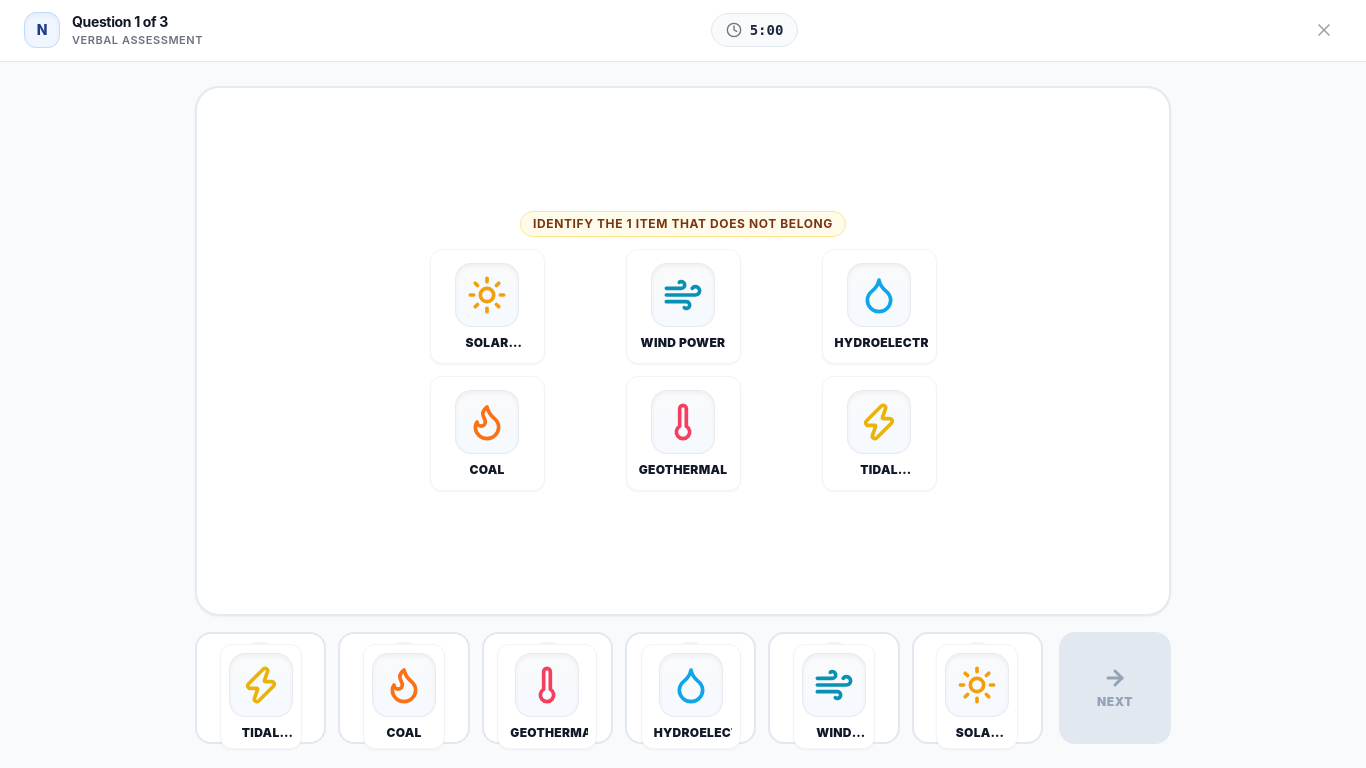
Scenario: Stage 3: View, Store & UI/UX Interaction Suite › ExamSimulatorView (Authentic MHS NGAT Interface) › faithfully handles 6-option Verbal questions (A through F) with authentic click-to-select and advance
The image size is (1366, 768).
expect the button with test id "exam-option-0" is shown: met, box [195,632,326,744]
expect the button with test id "exam-option-1" is shown: met, box [338,632,470,744]
What coordinates should you click on to do the following:
click the button with test id "exam-option-3"
I would click on:
 (691, 688)
Its box is [625,632,756,744].
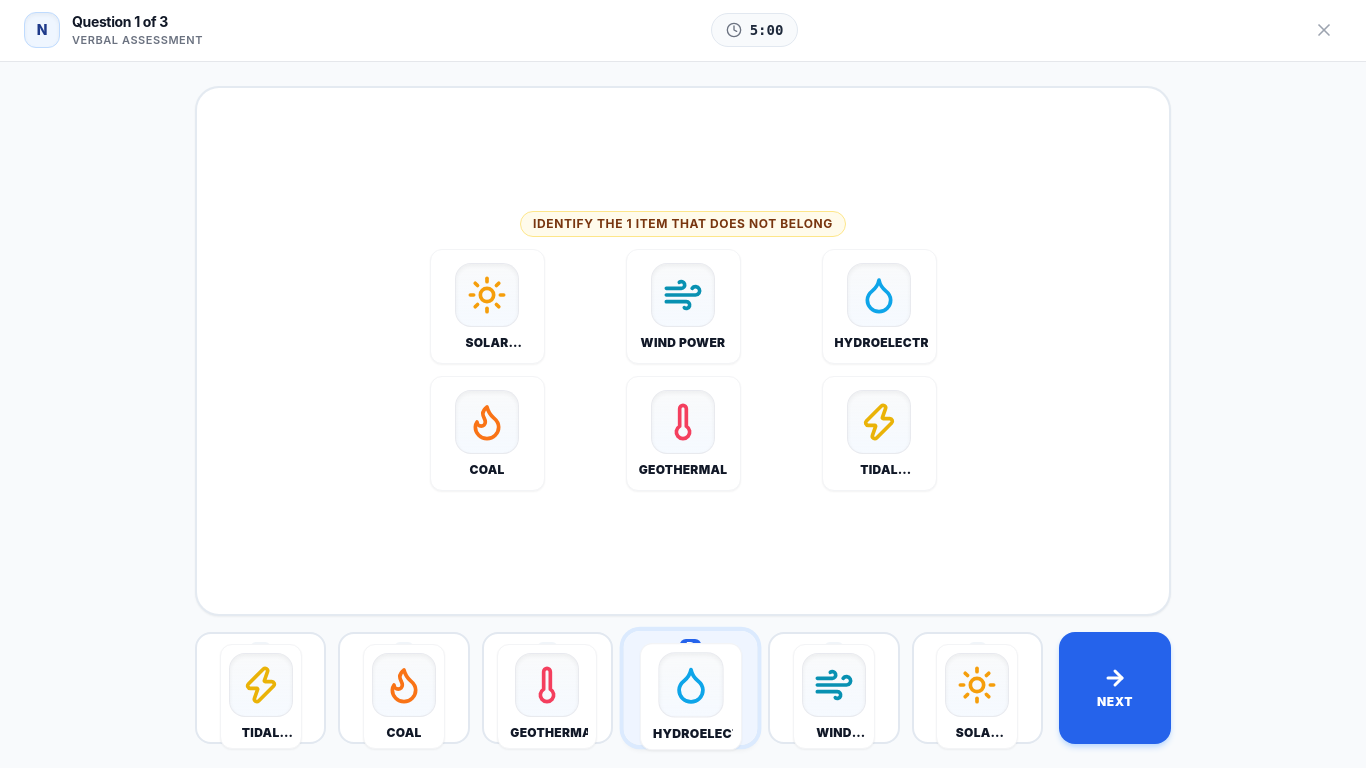
expect the heading "Question 1 of 3" is shown: met, box [72,13,168,30]
expect the button with test id "exam-option-3" is pressed: met, box [624,631,758,745]
What coordinates should you click on to do the following:
click the button with test id "exam-next-btn"
I would click on:
 (1115, 688)
Its box is [1059,632,1171,744].
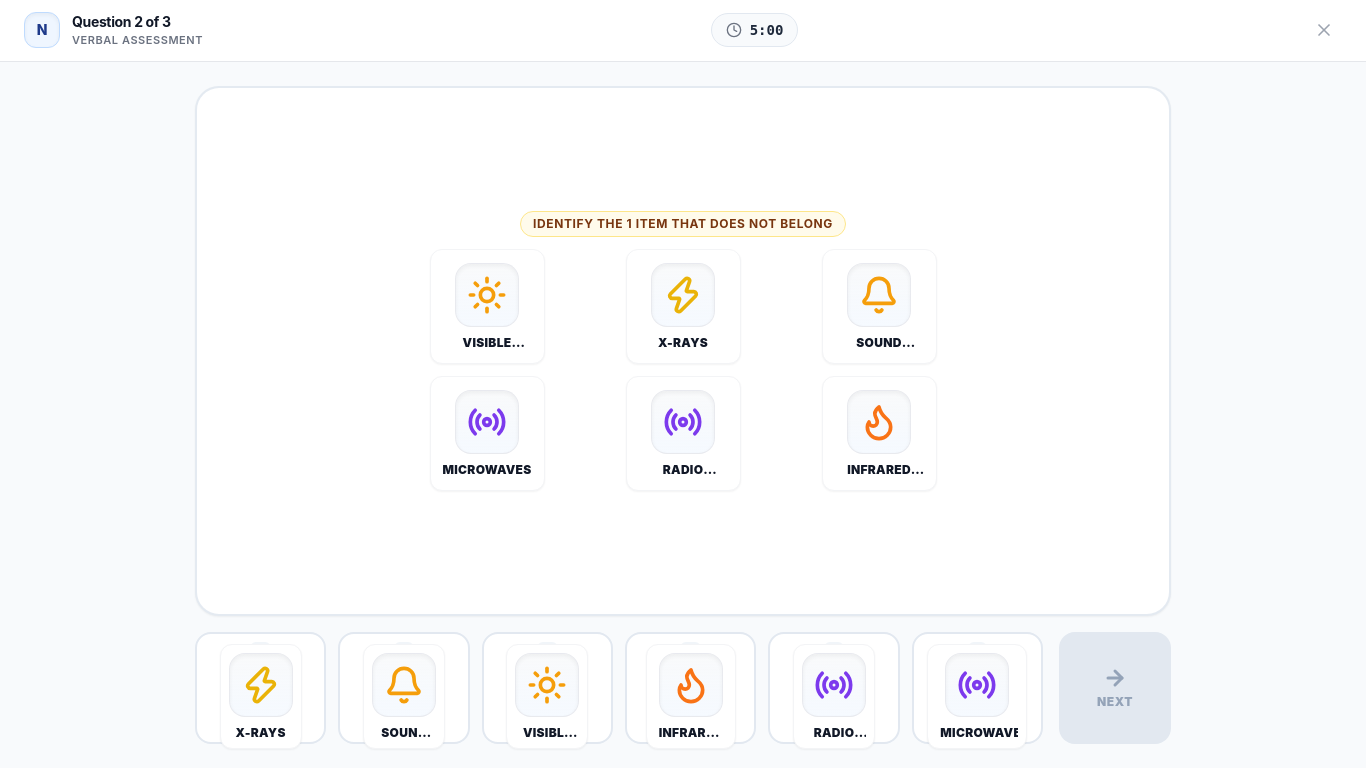
expect the heading "Question 2 of 3" is shown: met, box [72,13,171,30]
